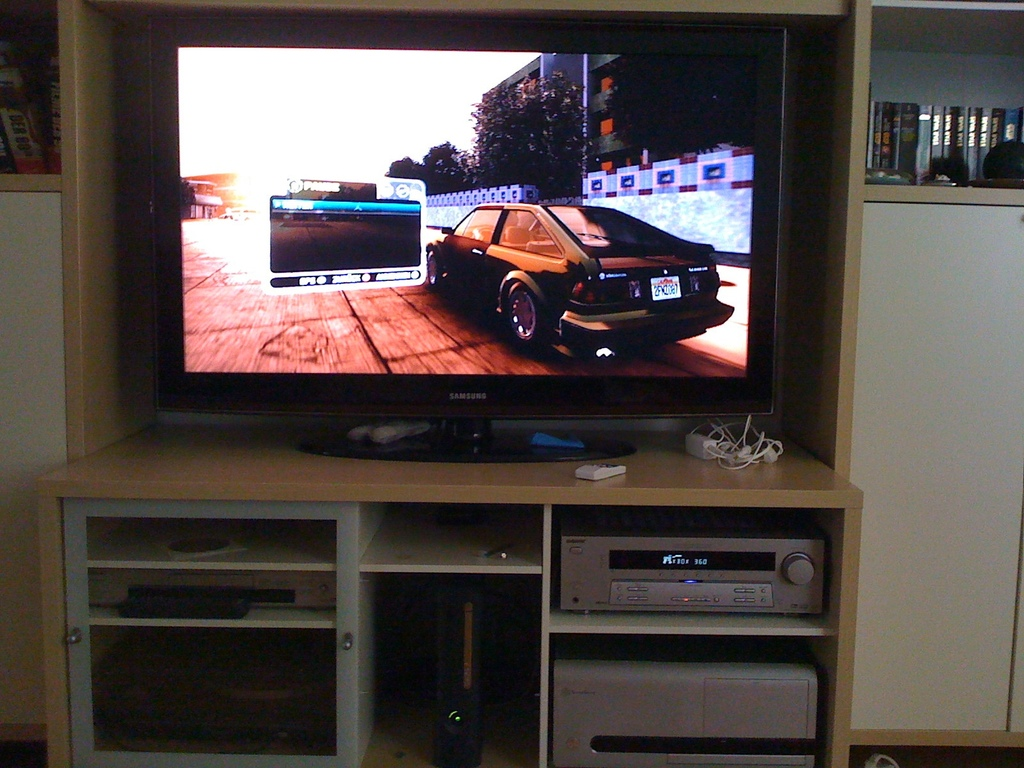cars: (424, 199, 735, 368)
